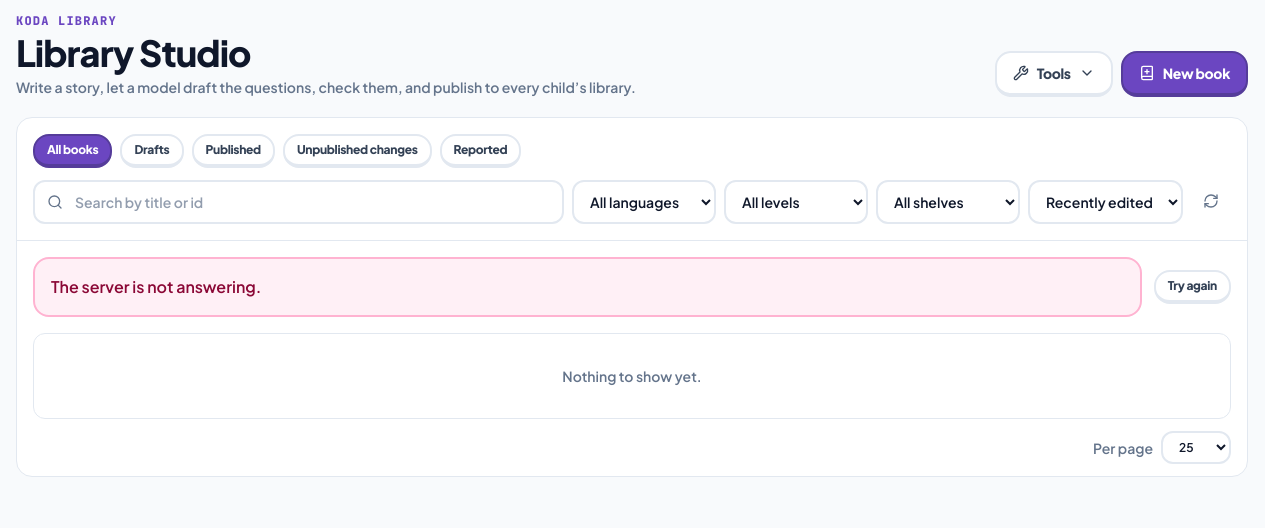
Test case: the studio list › says when the list cannot be loaded, and tries again
This screenshot has width=1265, height=528.
expect the message shows "not answering": met, box [51,276,261,297]
What coordinates should you click on to do the following:
click the button "Try again"
I would click on:
 (1192, 287)
Its box is [1154,270,1231,304].
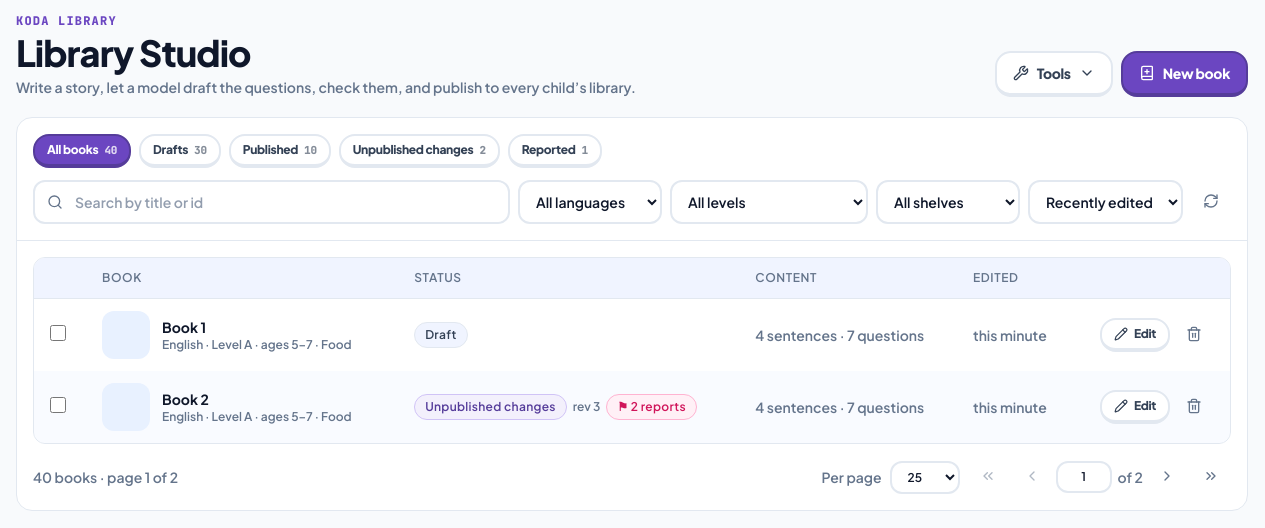
expect the button "Book 1" is shown: met, box [162,317,206,337]
